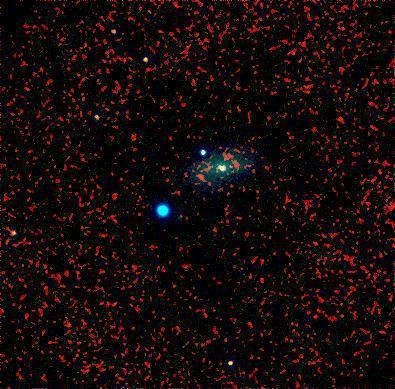star: (189, 161, 219, 191)
